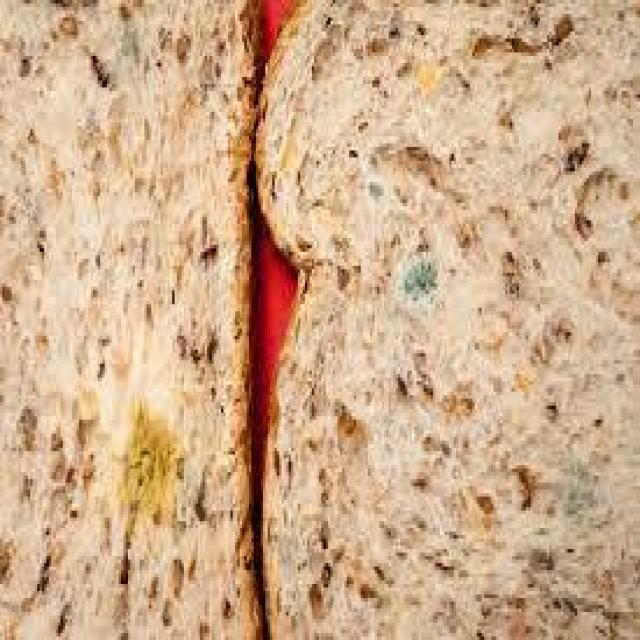Wet Waste: (270, 3, 636, 640)
